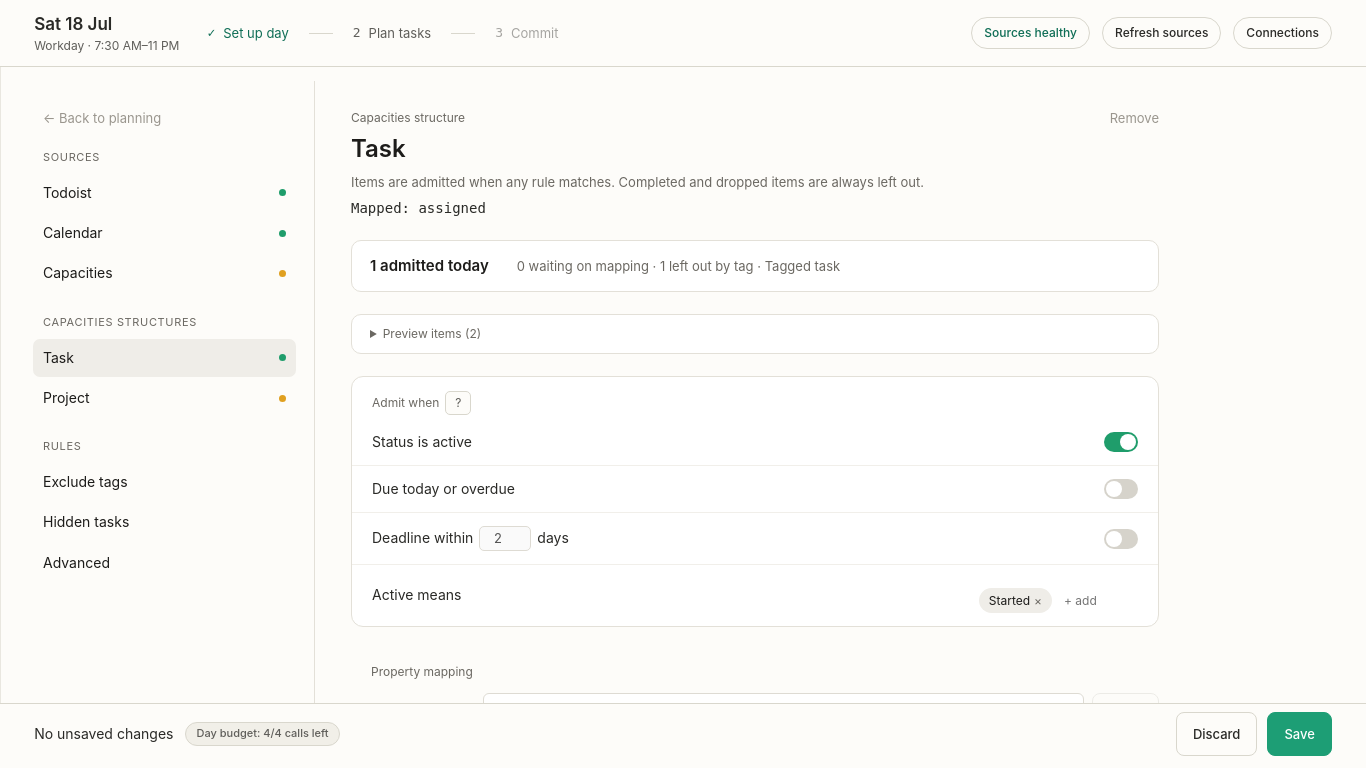
Connections screen (U13) › scopes the preview rows and counts to the selected structure
The width and height of the screenshot is (1366, 768).
Expected: the text "1 admitted today" is shown, [370,255,489,277]
Expected: the text "0 waiting on mapping · 1 left out by tag · Tagged task" is shown, [517,257,840,276]
What coordinates should you click on to do the following:
click the heading "Preview items (2)"
I would click on:
 (432, 334)
Its box is [383,326,481,341].
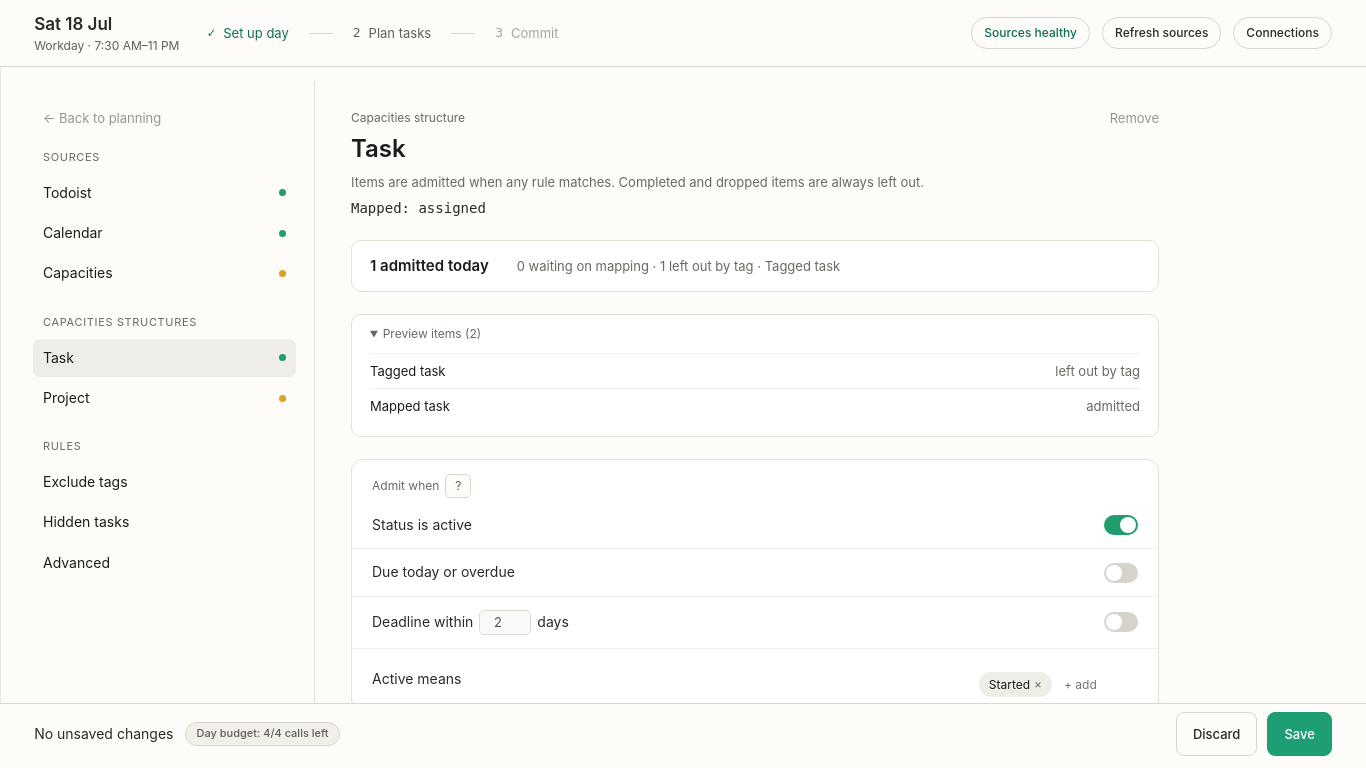
Expected: the text "Tagged task" is shown, [370,362,446,380]
Expected: the text "left out by tag" is shown, [1055,362,1140,380]
Expected: the text "Mapped task" is shown, [370,397,450,416]
What coordinates should you click on to do the following:
click the button "Project"
I would click on:
 (66, 397)
Its box is [33,379,296,417].
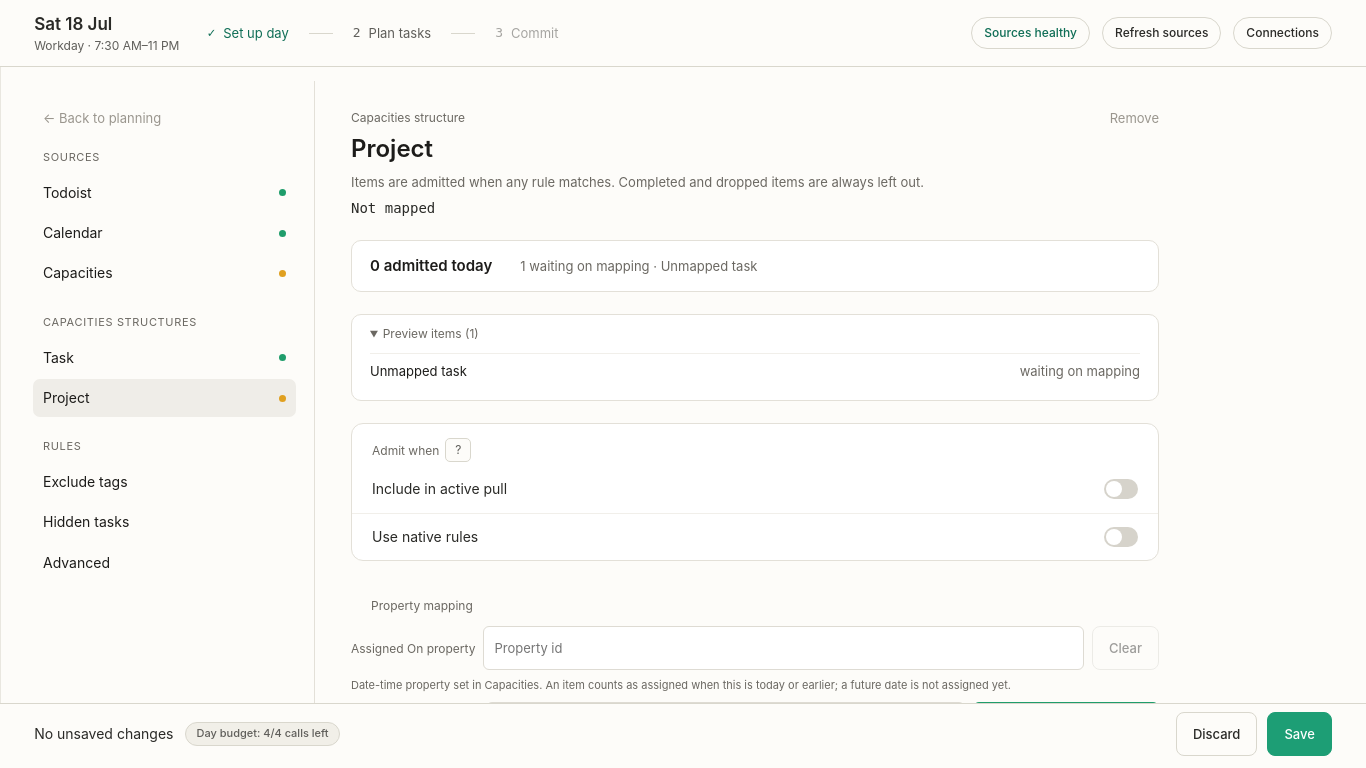
Expected: the text "1 waiting on mapping · Unmapped task" is shown, [520,257,757,276]
Expected: the text "0 admitted today" is shown, [370,255,492,277]
What coordinates should you click on to do the following:
click the heading "Preview items (1)"
I would click on:
 (431, 334)
Its box is [383,326,479,341].
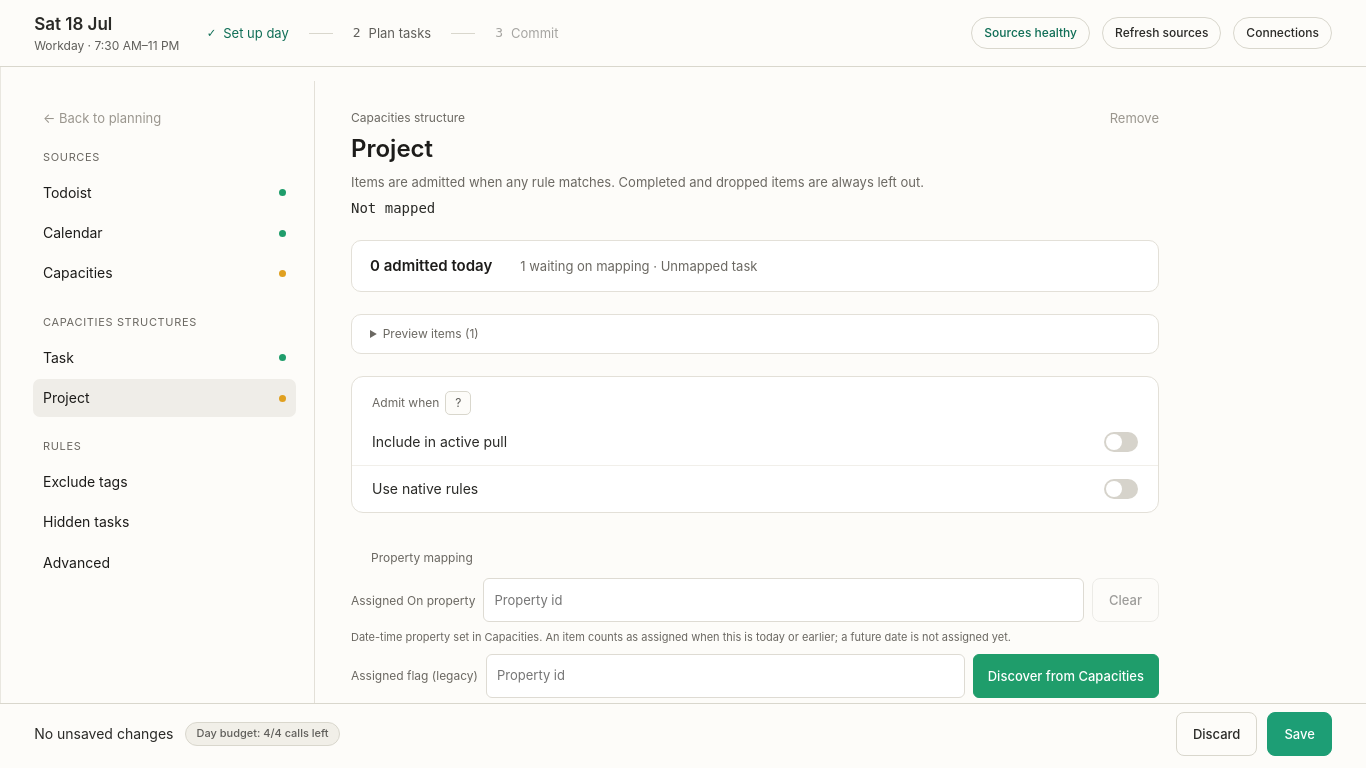
What coordinates should you click on to do the following:
click the button "Exclude tags"
I would click on:
 (85, 482)
Its box is [33,463,296,502].
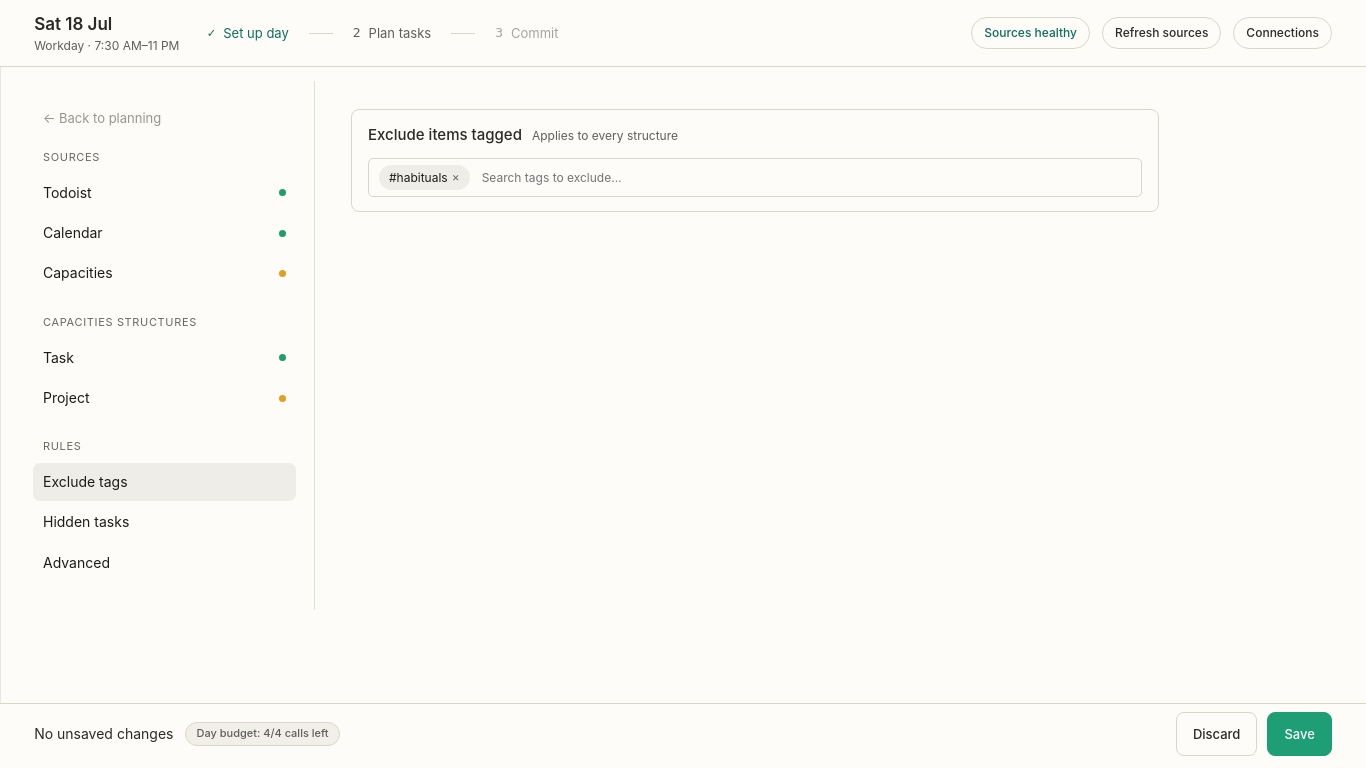
What coordinates should you click on to do the following:
click the button named "Remove tag #habituals"
I would click on:
 (456, 178)
Its box is [452,172,460,184].
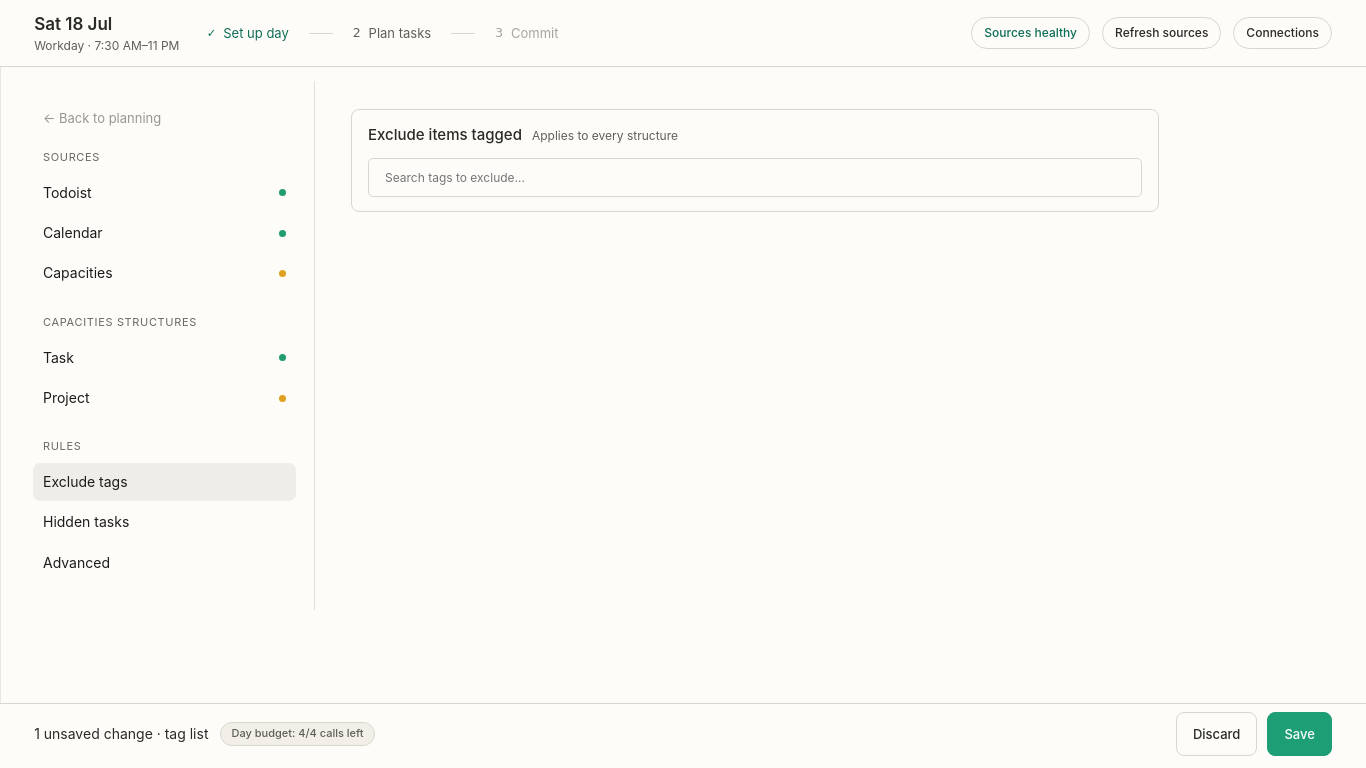
What coordinates should you click on to do the following:
click the button "Task"
I would click on:
 (58, 357)
Its box is [33,339,296,377].
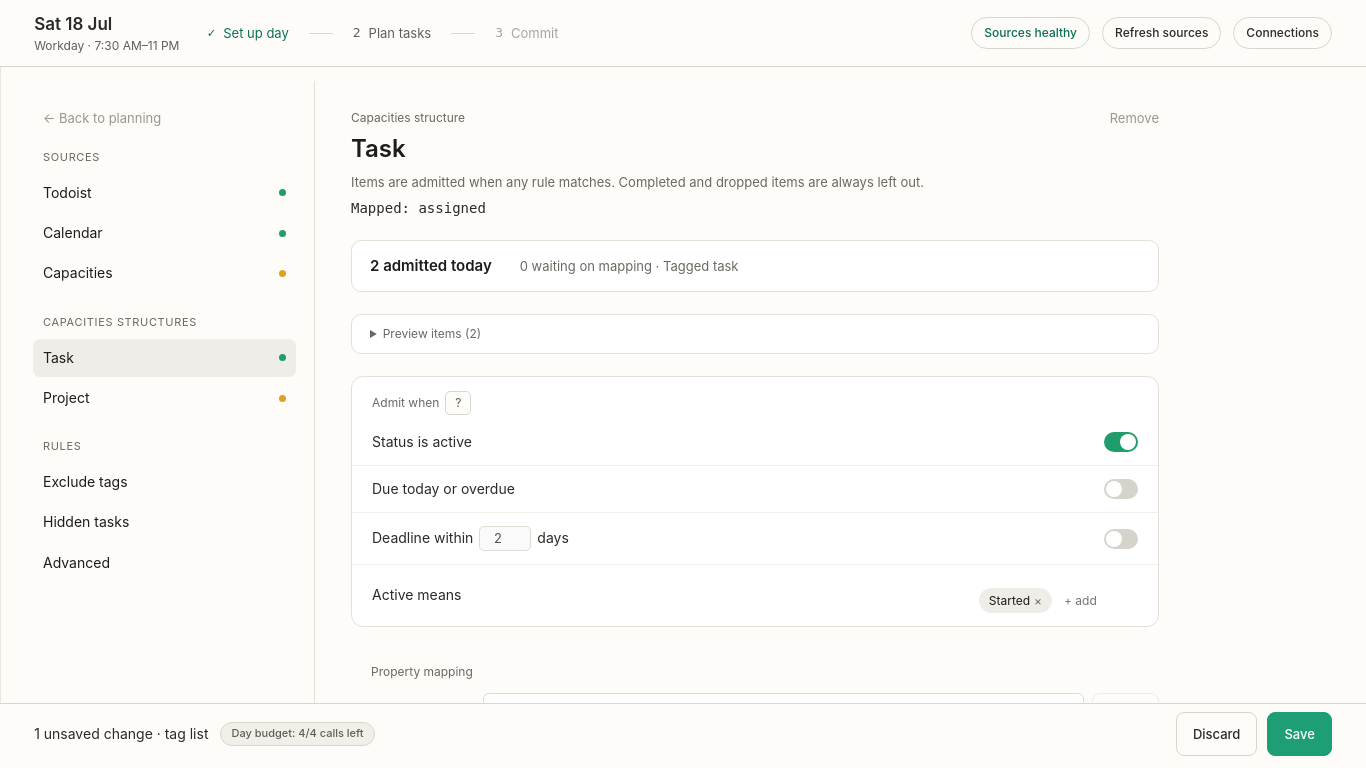
Expected: the text "left out by tag" is not shown
Expected: the text "2 admitted today" is shown, [370,255,492,277]
